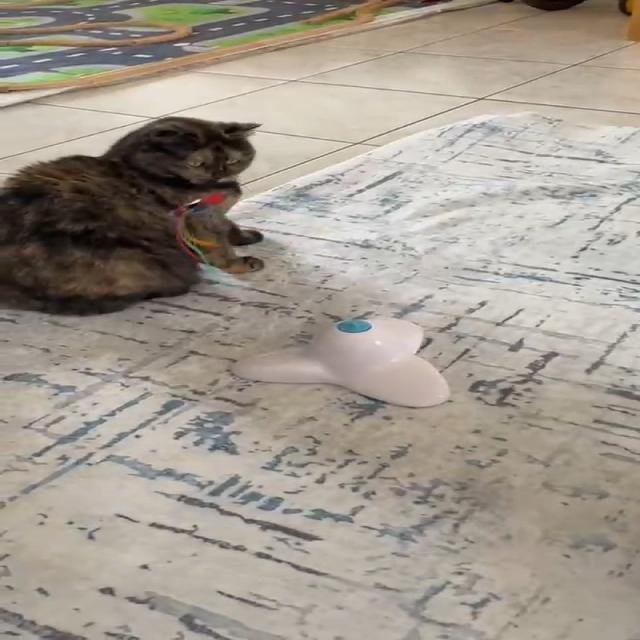authorized: (0, 115, 264, 316)
